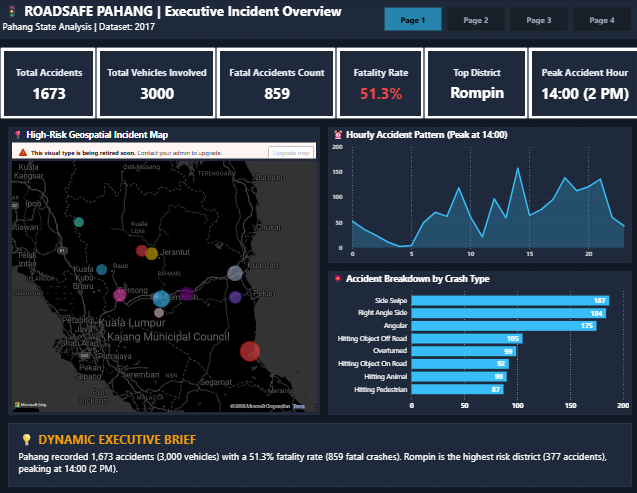

This screenshot's page, from the dashboard's own definition file:
{"tool":"powerbi","page":{"name":"Page 1","canvas":[1280,1000],"ordinal":0},"visuals":[{"type":"cardVisual","fields":{"Data":["road_accident_cleaned.Total Vehicles Involved"]},"box":[192,96,240,144],"z":0},{"type":"cardVisual","fields":{"Data":["road_accident_cleaned.Top Accident Road Type"]},"box":[848,96,208,144],"z":1000},{"type":"cardVisual","fields":{"Data":["road_accident_cleaned.Fatal Driver Injury Rate"]},"box":[672,96,176,144],"z":2000},{"type":"cardVisual","fields":{"Data":["road_accident_cleaned.Top Accident District"]},"box":[432,96,240,144],"z":3000},{"type":"cardVisual","fields":{"Data":["road_accident_cleaned.Peak Accident Time"]},"box":[1056,96,224,144],"z":4000},{"type":"cardVisual","fields":{"Data":["road_accident_cleaned.Total Accidents"]},"box":[0,96,192,144],"z":5000},{"type":"map","title":"📍 High-Risk Geospatial Incident Map","fields":{"Category":["road_accident_cleaned.district"],"Series":["road_accident_cleaned.district"],"Size":["road_accident_cleaned.Total Accidents"],"X":["Avg(road_accident_cleaned.longitude)"],"Y":["Avg(road_accident_cleaned.latitude)"]},"box":[16,256,624,576],"z":6000},{"type":"shape","box":[0,0,1280,80],"z":7000},{"type":"textbox","box":[0,0,720,96],"z":8000},{"type":"pageNavigator","box":[768,16,496,48],"z":9000},{"type":"areaChart","title":"⏰ Hourly Accident Pattern (Peak at 14:00)","fields":{"Category":["road_accident_cleaned.hour"],"Y":["road_accident_cleaned.Total Accidents"]},"box":[656,256,608,272],"z":10000},{"type":"clusteredBarChart","title":"💥 Accident Breakdown by Crash Type","fields":{"Category":["road_accident_cleaned.collision_type"],"Y":["CountNonNull(road_accident_cleaned.report_number)"]},"box":[656,544,608,288],"z":11000},{"type":"shape","box":[16,848,1248,128],"z":12000},{"type":"textbox","title":"💡 DYNAMIC EXECUTIVE BRIEF","box":[32,864,1216,96],"z":13000}]}

Visuals, with their boxes in screenshot pixels (x1, y1, x2, y2), scaled from the page's 1280x1000 canvas onto the 637x493 screenshot:
cardVisual - road_accident_cleaned.Total Vehicles Involved: <box>96,47,215,118</box>
cardVisual - road_accident_cleaned.Top Accident Road Type: <box>422,47,526,118</box>
cardVisual - road_accident_cleaned.Fatal Driver Injury Rate: <box>334,47,422,118</box>
cardVisual - road_accident_cleaned.Top Accident District: <box>215,47,334,118</box>
cardVisual - road_accident_cleaned.Peak Accident Time: <box>526,47,636,118</box>
cardVisual - road_accident_cleaned.Total Accidents: <box>0,47,96,118</box>
"📍 High-Risk Geospatial Incident Map" map: <box>8,126,318,410</box>
shape: <box>0,0,636,39</box>
textbox: <box>0,0,358,47</box>
pageNavigator: <box>382,8,629,32</box>
"⏰ Hourly Accident Pattern (Peak at 14:00)" areaChart: <box>326,126,629,260</box>
"💥 Accident Breakdown by Crash Type" clusteredBarChart: <box>326,268,629,410</box>
shape: <box>8,418,629,481</box>
"💡 DYNAMIC EXECUTIVE BRIEF" textbox: <box>16,426,621,473</box>
